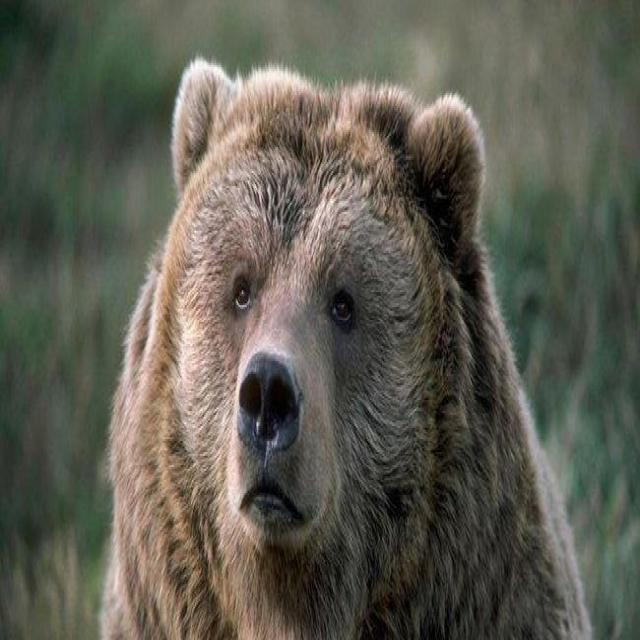Bear: (99, 60, 594, 640)
